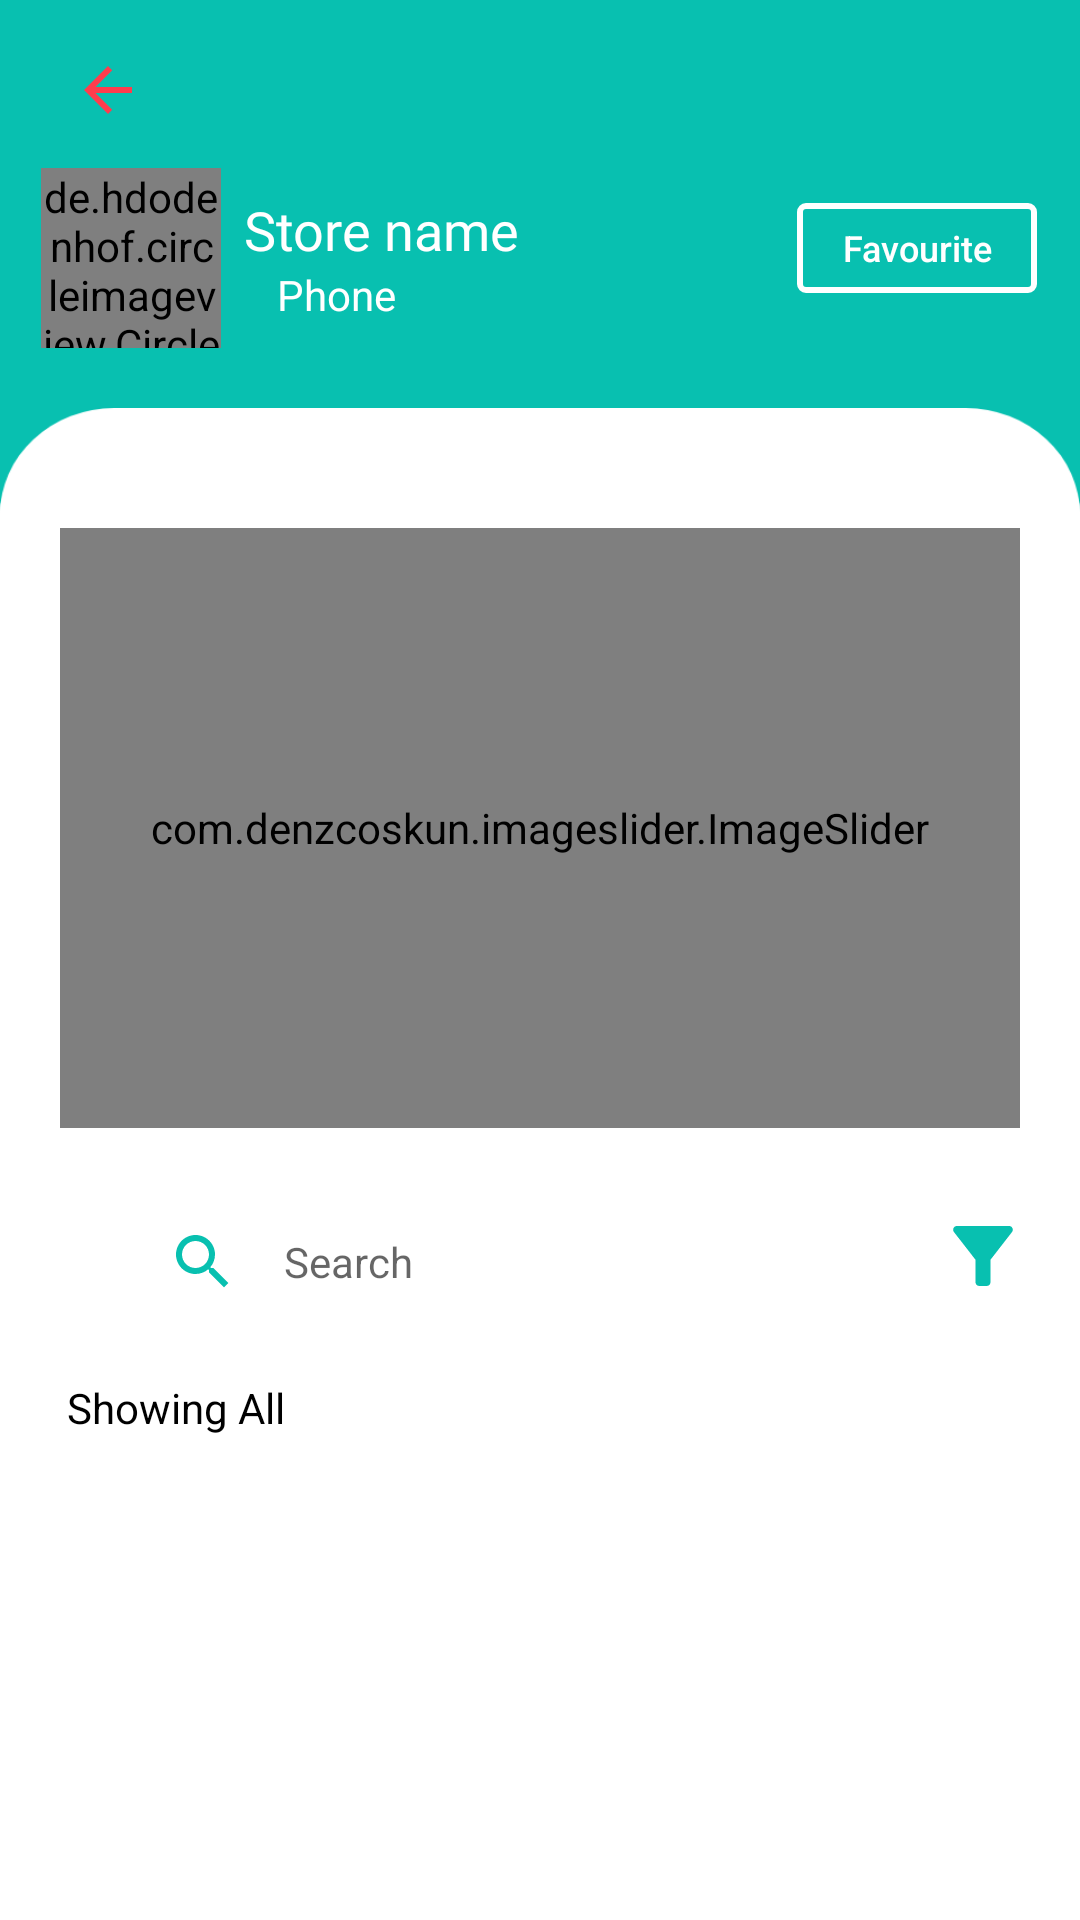

Point at icon controls on the screen. Image size 1080px x 1920px, points as point (x, y).
arrow back: point (108, 90)
filter: point (983, 1256)
